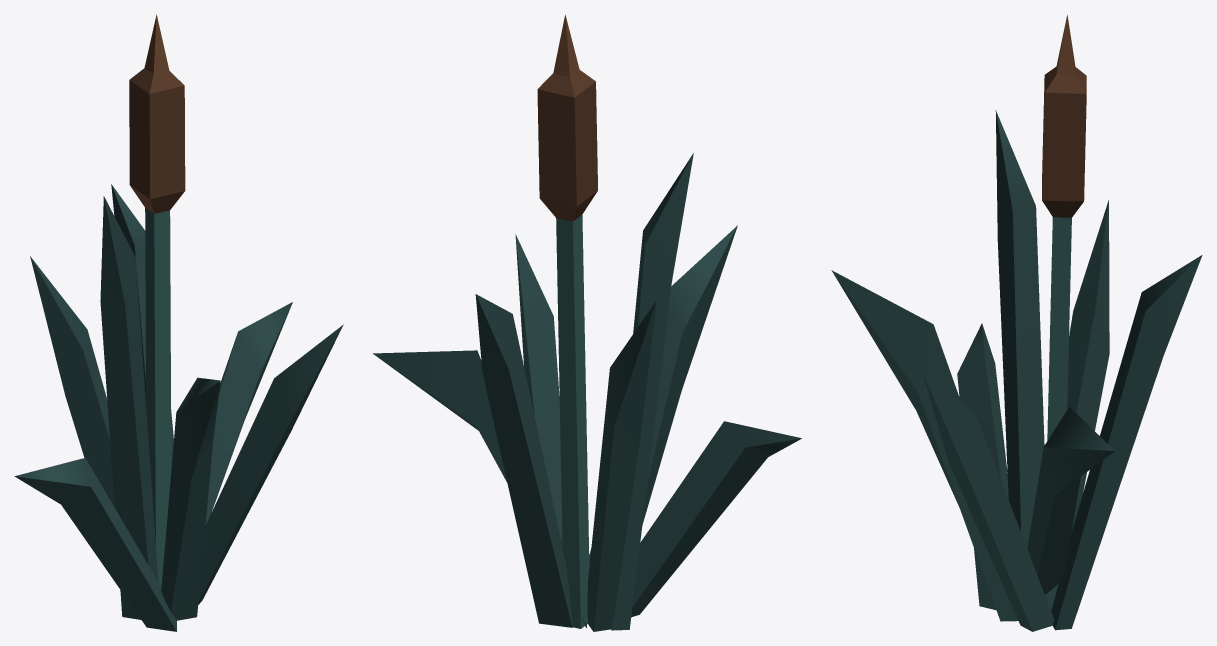
The model's file is SM_Env_Reeds_01.fbx.
The picture shows the model from 3 angles, left to right: view 1: azimuth 30°, elevation 25°; view 2: azimuth 150°, elevation 25°; view 3: azimuth 270°, elevation 25°; orthographic projection. The views are drawn at different scales.
Visible parts, largest first — view 1: SM_Env_Reeds_01; view 2: SM_Env_Reeds_01; view 3: SM_Env_Reeds_01.
Boxes of the visible parts, x1=… form: SM_Env_Reeds_01: x1=14, y1=14, x2=343, y2=631; SM_Env_Reeds_01: x1=373, y1=15, x2=801, y2=631; SM_Env_Reeds_01: x1=831, y1=15, x2=1202, y2=631.
Size of the model in its own units: 0.00832 by 0.0135 by 0.00752.
Materials: 1 (1 with a texture image).
